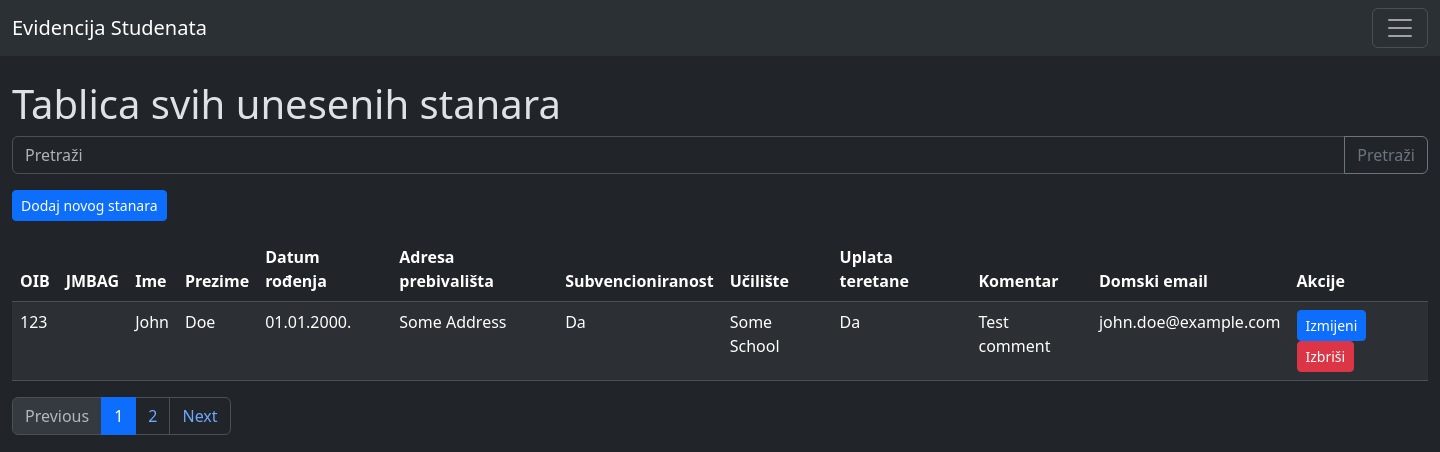
Test: PopisUnesenihStanaraPage › pagination changes pages correctly
The width and height of the screenshot is (1440, 452).
Expected: the text "John" is shown, [127,302,177,380]
Click next page
Click the button "Next": (200, 416) [170,397,231,435]
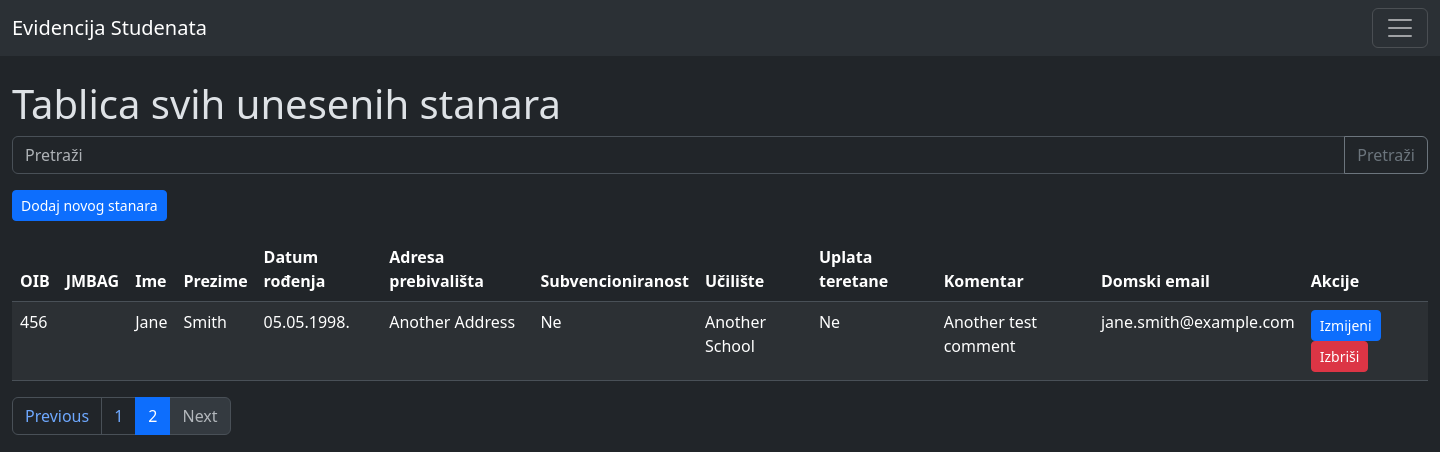
Expected: the text "Jane" is shown, [127,302,176,380]
